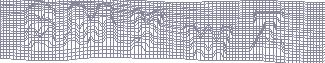8: (19, 1, 56, 52)
M: (62, 1, 120, 51)
Z: (248, 9, 286, 58)
w: (181, 24, 233, 60)
y: (126, 8, 167, 55)
